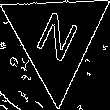N_SW: (30, 6, 82, 70)
